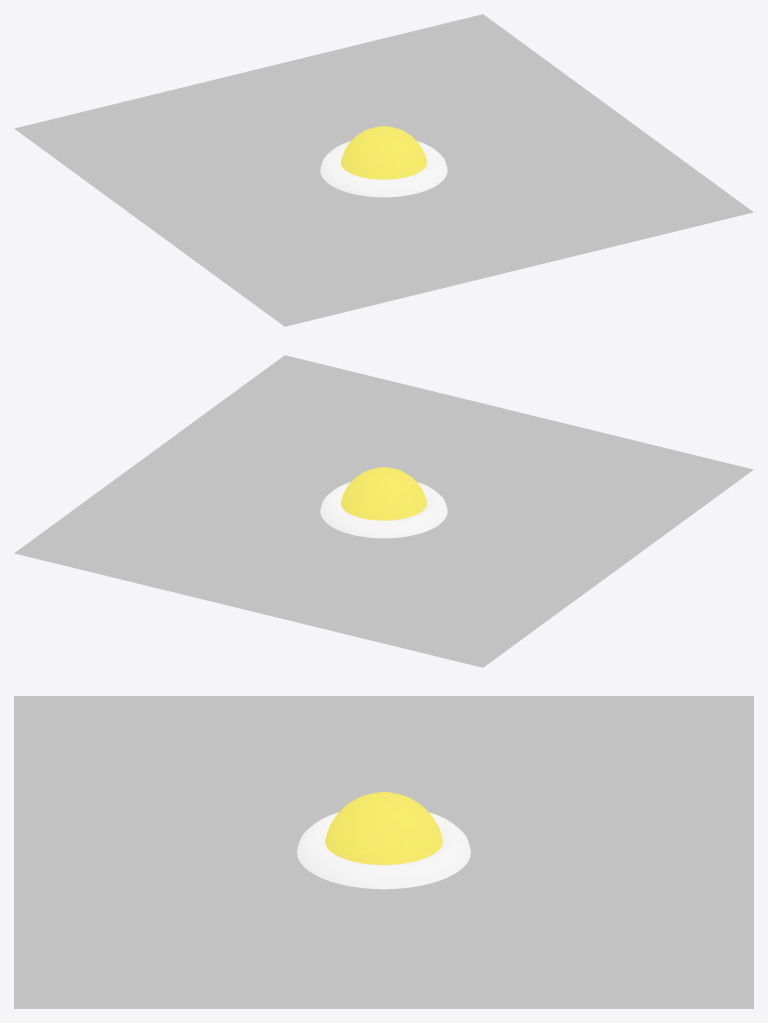
Rendered from ImpactWaves.glb.
3 views of the same model, one above another, from view 1: azimuth 30°, elevation 25°; view 2: azimuth 150°, elevation 25°; view 3: azimuth 270°, elevation 25° (orthographic). The views are drawn at different scales.
Visible parts, largest first — view 1: Plane, electric_sparkle, cloud_fat; view 2: Plane, electric_sparkle, cloud_fat; view 3: Plane, electric_sparkle, cloud_fat.
Part boxes in pixels (x1,y1,x2,y2): Plane: (14,14,753,326); electric_sparkle: (341,126,426,179); cloud_fat: (320,141,447,197); Plane: (14,355,753,667); electric_sparkle: (341,467,426,520); cloud_fat: (320,482,447,538); Plane: (14,696,753,1008); electric_sparkle: (325,792,442,864); cloud_fat: (297,812,470,889).
Bounding box in the file's own units: 59.54 × 9.73 × 59.54.
